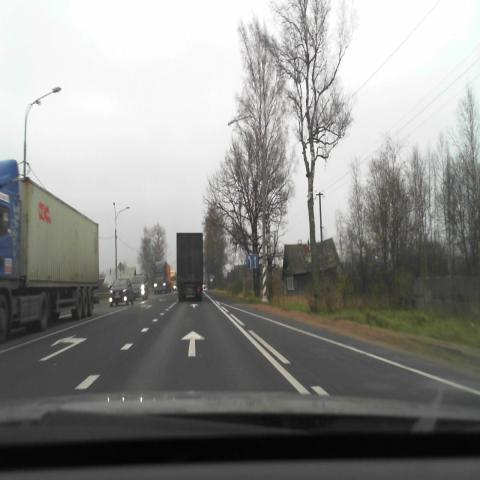5_15_2_2: (248, 254, 258, 268)
